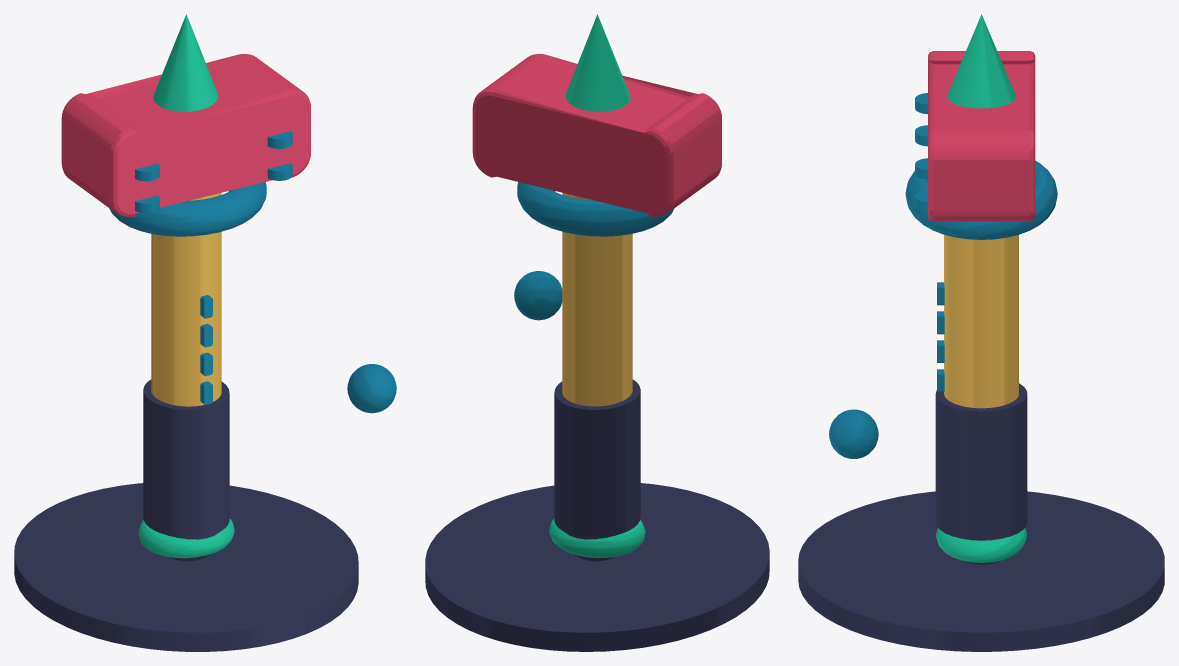
Rendered from 0462_机械图鉴_现代复合弓.glb.
The picture shows the model from 3 angles, left to right: view 1: azimuth 30°, elevation 25°; view 2: azimuth 150°, elevation 25°; view 3: azimuth 270°, elevation 25°; orthographic projection.
Parts seen in each view (by area): view 1: card_0462; view 2: card_0462; view 3: card_0462.
Part boxes in pixels (x1=…): card_0462: x1=14, y1=14, x2=396, y2=651; card_0462: x1=425, y1=14, x2=769, y2=651; card_0462: x1=798, y1=14, x2=1164, y2=651.
Size of the model in its own units: 0.544 by 1 by 0.5868.
